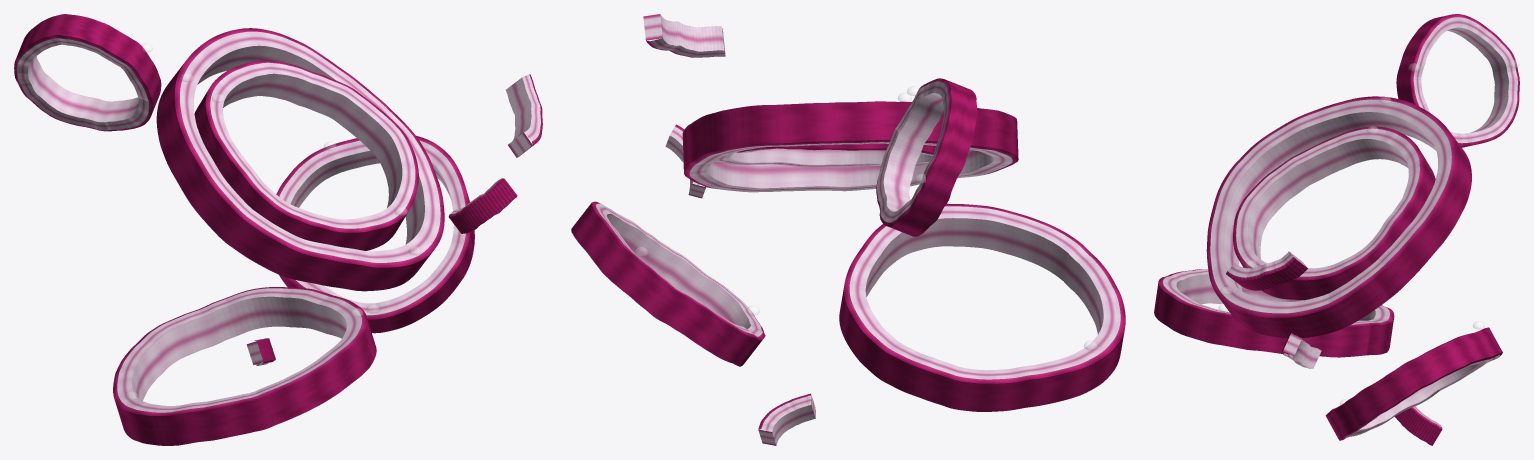
The model's file is red-onion-rings.glb.
3 views of the same model, side by side, from view 1: azimuth 30°, elevation 25°; view 2: azimuth 150°, elevation 25°; view 3: azimuth 270°, elevation 25° (orthographic). The views are drawn at different scales.
Visible parts, largest first — view 1: red-onion-layers, red-onion-epidermis, red-onion-rings; view 2: red-onion-layers, red-onion-epidermis, red-onion-rings; view 3: red-onion-epidermis, red-onion-layers, red-onion-rings.
Part boxes in pixels (x1,y1,x2,y2): red-onion-layers: (17, 31, 540, 412); red-onion-epidermis: (14, 14, 542, 445); red-onion-rings: (125, 43, 421, 400); red-onion-layers: (596, 14, 1120, 445); red-onion-epidermis: (571, 40, 1125, 429); red-onion-rings: (634, 86, 1097, 350); red-onion-epidermis: (1154, 14, 1519, 445); red-onion-layers: (1163, 17, 1517, 439); red-onion-rings: (1218, 60, 1519, 404).
Size of the model in its own units: 0.0998 by 0.0875 by 0.0829.
3 materials, 2 textured.
